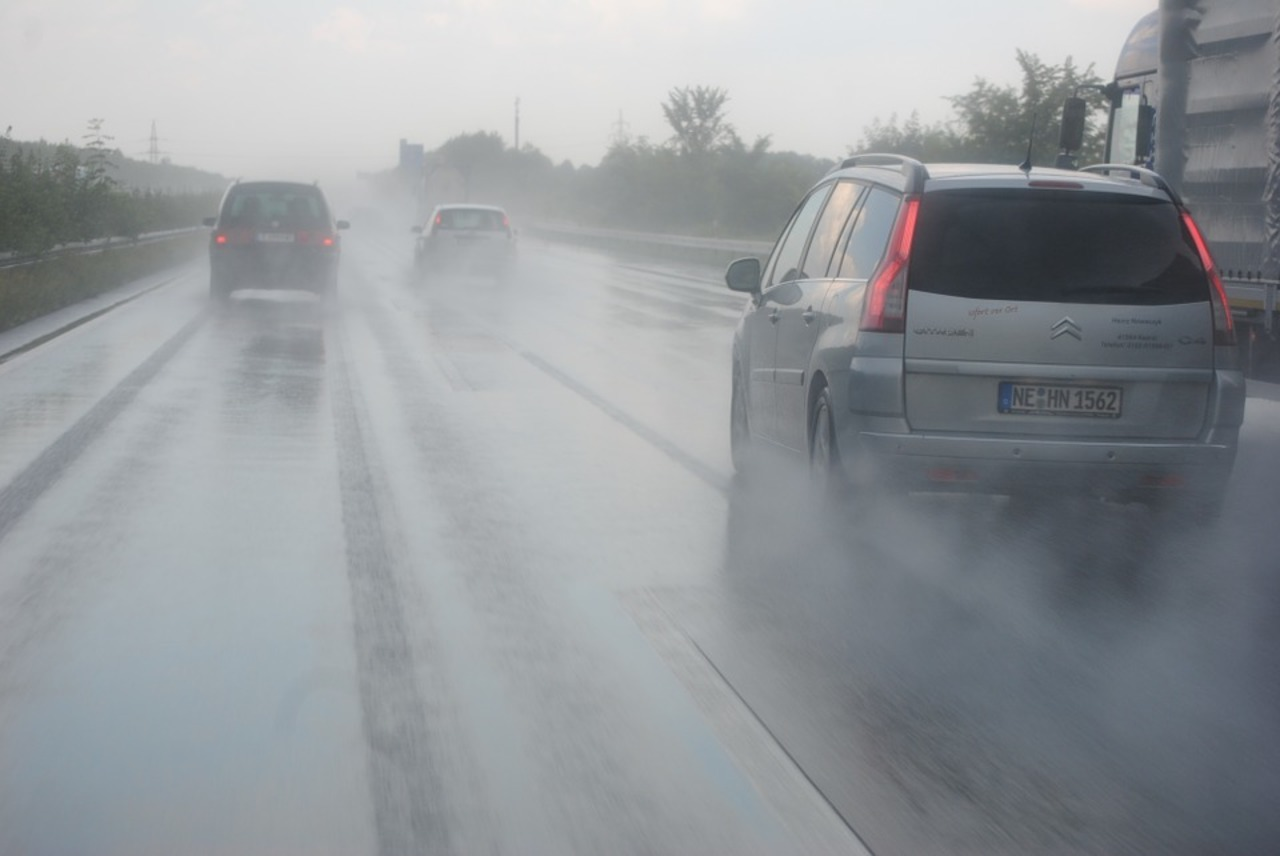car: (718, 154, 1254, 539), (206, 179, 343, 291), (413, 204, 514, 288)
truck: (1059, 30, 1264, 408)
